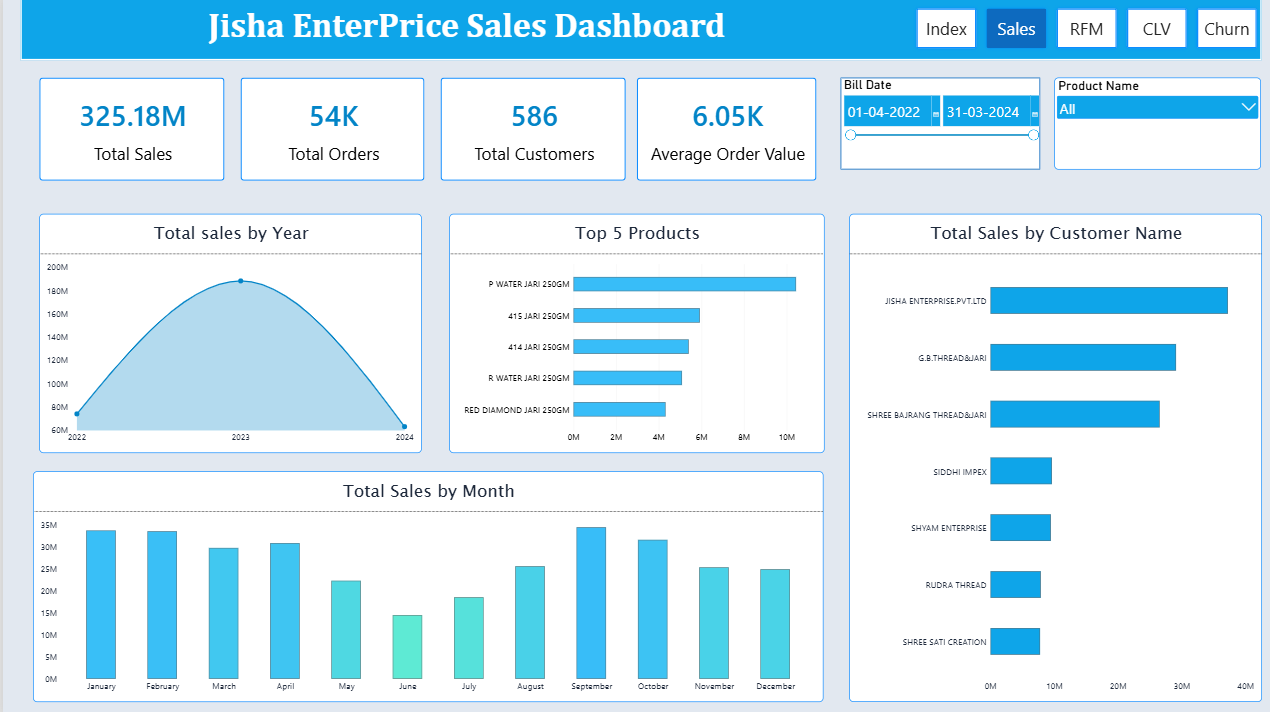

The dashboard page shown, as its layout file describes it:
{"tool":"powerbi","page":{"name":"Sales","canvas":[3000,1700],"ordinal":1},"visuals":[{"type":"cardVisual","fields":{"Data":["Cleaned_File.Total Orders"]},"box":[560,193.3,433.3,243.3],"z":0},{"type":"cardVisual","fields":{"Data":["Count(Cleaned_File.Customer Name)"]},"box":[1030,193.3,436.7,243.3],"z":1000},{"type":"cardVisual","fields":{"Data":["Cleaned_File.Average Order Value"]},"box":[1490,193.3,423.3,243.3],"z":2000},{"type":"lineChart","title":"Total sales by Year","fields":{"Y":["Cleaned_File.Total Sales"],"Category":["Cleaned_File.Bill Date.Variation.Date Hierarchy.Year"]},"box":[86.7,513.3,900,563.3],"z":3000},{"type":"barChart","title":"Top 5 Products","fields":{"Y":["Cleaned_File.Total Sales"],"Category":["Cleaned_File.Product Name"]},"box":[1048.6,514.3,882.9,562.9],"z":4000},{"type":"clusteredColumnChart","fields":{"Y":["Cleaned_File.Total Sales"],"Category":["Cleaned_File.Bill Date.Variation.Date Hierarchy.Month"]},"box":[71.4,1120,1860,542.9],"z":5000},{"type":"cardVisual","fields":{"Data":["Cleaned_File.Total Sales"]},"box":[86.7,193.3,436.7,243.3],"z":7000},{"type":"shape","box":[40,0,2920,153.3],"z":8000},{"type":"textbox","box":[40,22.5,2100,130],"z":9000},{"type":"shape","box":[1970,193.3,470,216.7],"z":10000},{"type":"clusteredBarChart","fields":{"Category":["Cleaned_File.Customer Name"],"Y":["Cleaned_File.Total Sales"]},"box":[1991.4,514.3,971.4,1148.6],"z":11000},{"type":"slicer","fields":{"Values":["Cleaned_File.Bill Date"]},"box":[1970,193.3,470,243.3],"z":12000},{"type":"slicer","fields":{"Values":["Cleaned_File.Product Name"]},"box":[2473.3,193.3,486.7,216.7],"z":13000},{"type":"pageNavigator","box":[2140,22.5,820,110],"z":14000}]}

Visuals, with their boxes in screenshot pixels (x1, y1, x2, y2), scaled from the page's 3000x1700 canvas onto the 1270x712 screenshot:
cardVisual - Cleaned_File.Total Orders: box=[237, 81, 420, 183]
cardVisual - Count(Cleaned_File.Customer Name): box=[436, 81, 621, 183]
cardVisual - Cleaned_File.Average Order Value: box=[631, 81, 810, 183]
"Total sales by Year" lineChart: box=[37, 215, 418, 451]
"Top 5 Products" barChart: box=[444, 215, 818, 451]
clusteredColumnChart - Cleaned_File.Total Sales x Cleaned_File.Bill Date.Variation.Date Hierarchy.Month: box=[30, 469, 818, 696]
cardVisual - Cleaned_File.Total Sales: box=[37, 81, 222, 183]
shape: box=[17, 0, 1253, 64]
textbox: box=[17, 9, 906, 64]
shape: box=[834, 81, 1033, 172]
clusteredBarChart - Cleaned_File.Customer Name x Cleaned_File.Total Sales: box=[843, 215, 1254, 696]
slicer - Cleaned_File.Bill Date: box=[834, 81, 1033, 183]
slicer - Cleaned_File.Product Name: box=[1047, 81, 1253, 172]
pageNavigator: box=[906, 9, 1253, 55]
